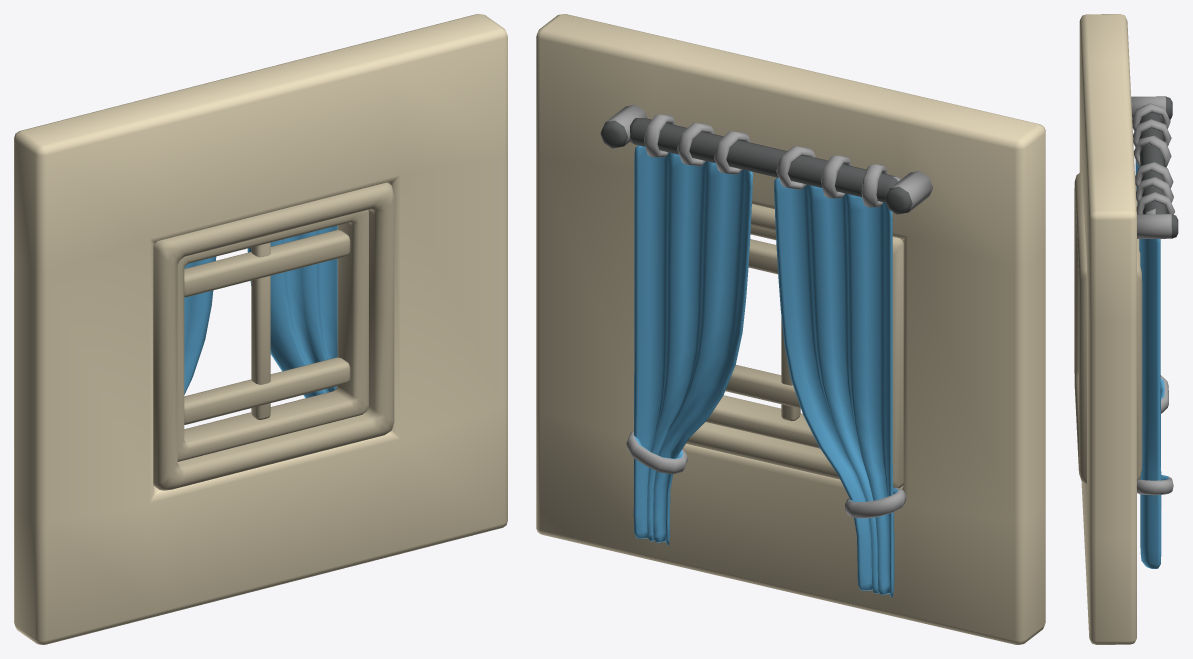
Rendered from window_LOD0.fbx.
3 views of the same model, side by side, from view 1: azimuth 30°, elevation 25°; view 2: azimuth 150°, elevation 25°; view 3: azimuth 270°, elevation 25° (orthographic). The views are drawn at different scales.
Visible parts, largest first — view 1: window_001; view 2: window_001; view 3: window_001.
Part boxes in pixels (x1=…): window_001: x1=14, y1=14, x2=507, y2=644; window_001: x1=536, y1=14, x2=1045, y2=644; window_001: x1=1074, y1=14, x2=1178, y2=644.
Size of the model in its own units: 839 by 838 by 182.
